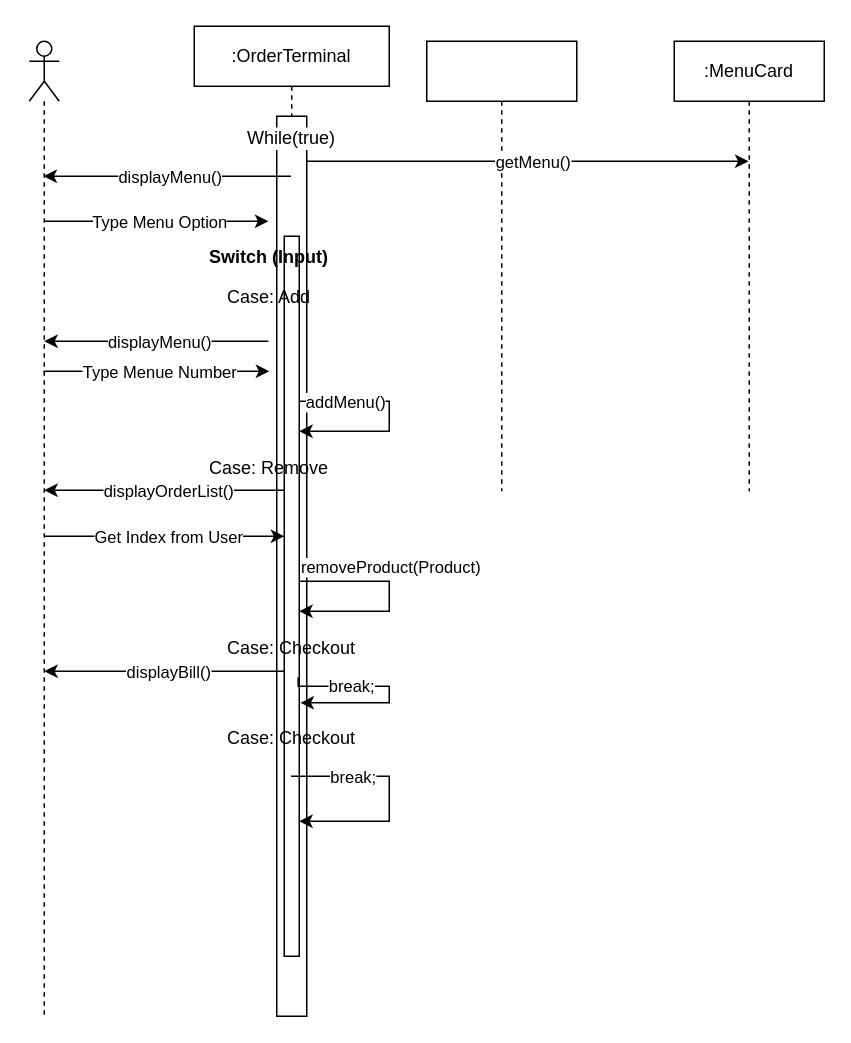
Some shapes in this 851 by 1043 pixel diagram are drawn without their labels. The box of each missing label's shape, as (x1, y1, x2, y2) in pixels:
:Product: (425, 40, 577, 491)
User: (28, 40, 59, 1016)
